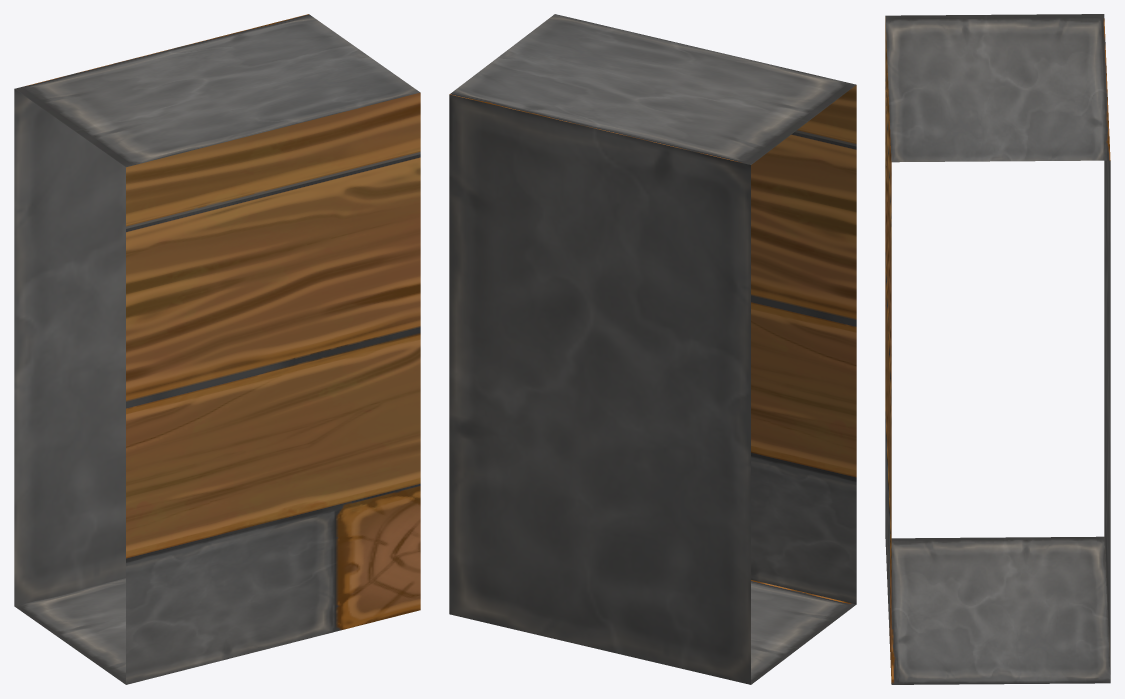
The picture shows the model from 3 angles, left to right: view 1: azimuth 30°, elevation 25°; view 2: azimuth 150°, elevation 25°; view 3: azimuth 270°, elevation 25°; orthographic projection.
Parts seen in each view (by area): view 1: Cube.1414; view 2: Cube.1414; view 3: Cube.1414.
Part boxes in pixels (box(x1,y1,x2,y2)): Cube.1414: box(14, 14, 420, 684); Cube.1414: box(449, 14, 856, 684); Cube.1414: box(885, 14, 1110, 684).
Size of the model in its own units: 18.81 by 30.93 by 12.07.
Materials: 1 (1 with a texture image).
